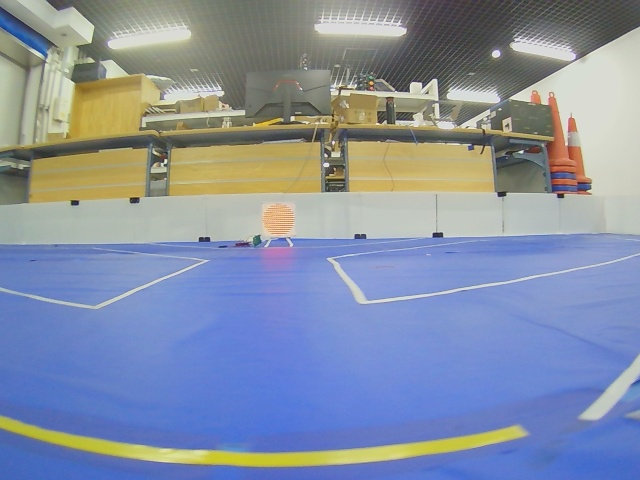red: (262, 203, 296, 238)
